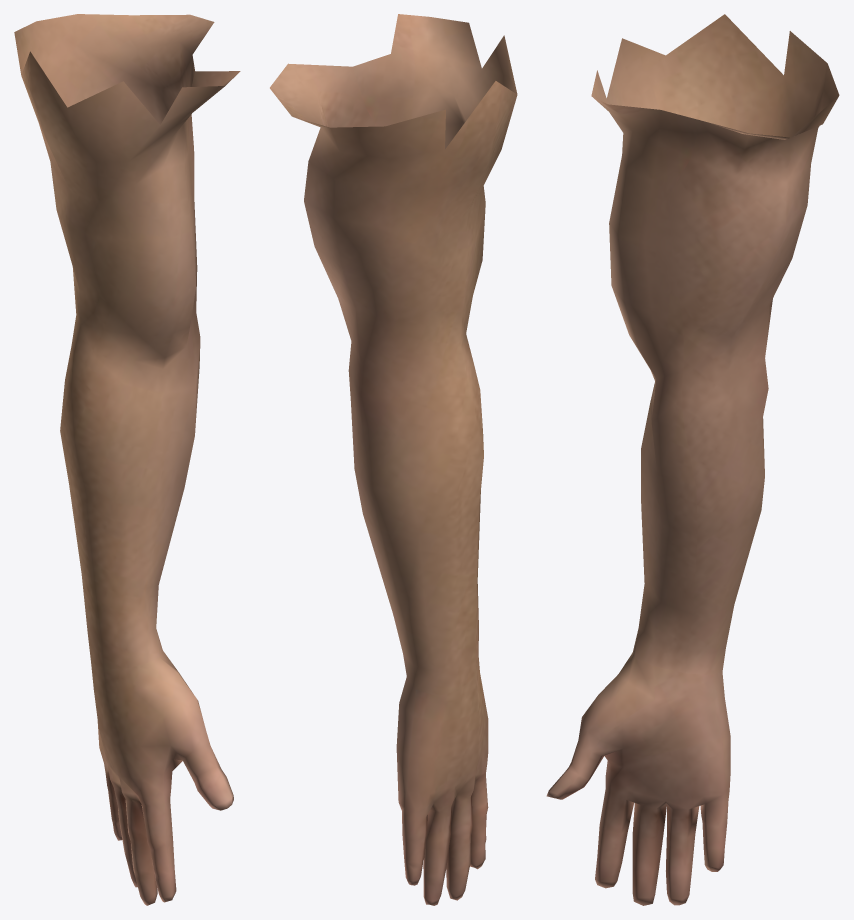
Rendered from character_arm_l_naked.glb.
The picture shows the model from 3 angles, left to right: view 1: azimuth 30°, elevation 25°; view 2: azimuth 150°, elevation 25°; view 3: azimuth 270°, elevation 25°; orthographic projection. The views are drawn at different scales.
Visible parts, largest first — view 1: tripo_node_bc81f8f9-a104-44a7-afac-f094b41faff7; view 2: tripo_node_bc81f8f9-a104-44a7-afac-f094b41faff7; view 3: tripo_node_bc81f8f9-a104-44a7-afac-f094b41faff7.
Part boxes in pixels (<box>): tripo_node_bc81f8f9-a104-44a7-afac-f094b41faff7: <box>14,14,240,905</box>; tripo_node_bc81f8f9-a104-44a7-afac-f094b41faff7: <box>270,14,517,905</box>; tripo_node_bc81f8f9-a104-44a7-afac-f094b41faff7: <box>546,14,839,905</box>.
Bounding box in the file's own units: 0.1632 × 0.681 × 0.2119.
Materials: 1 (1 with a texture image).
